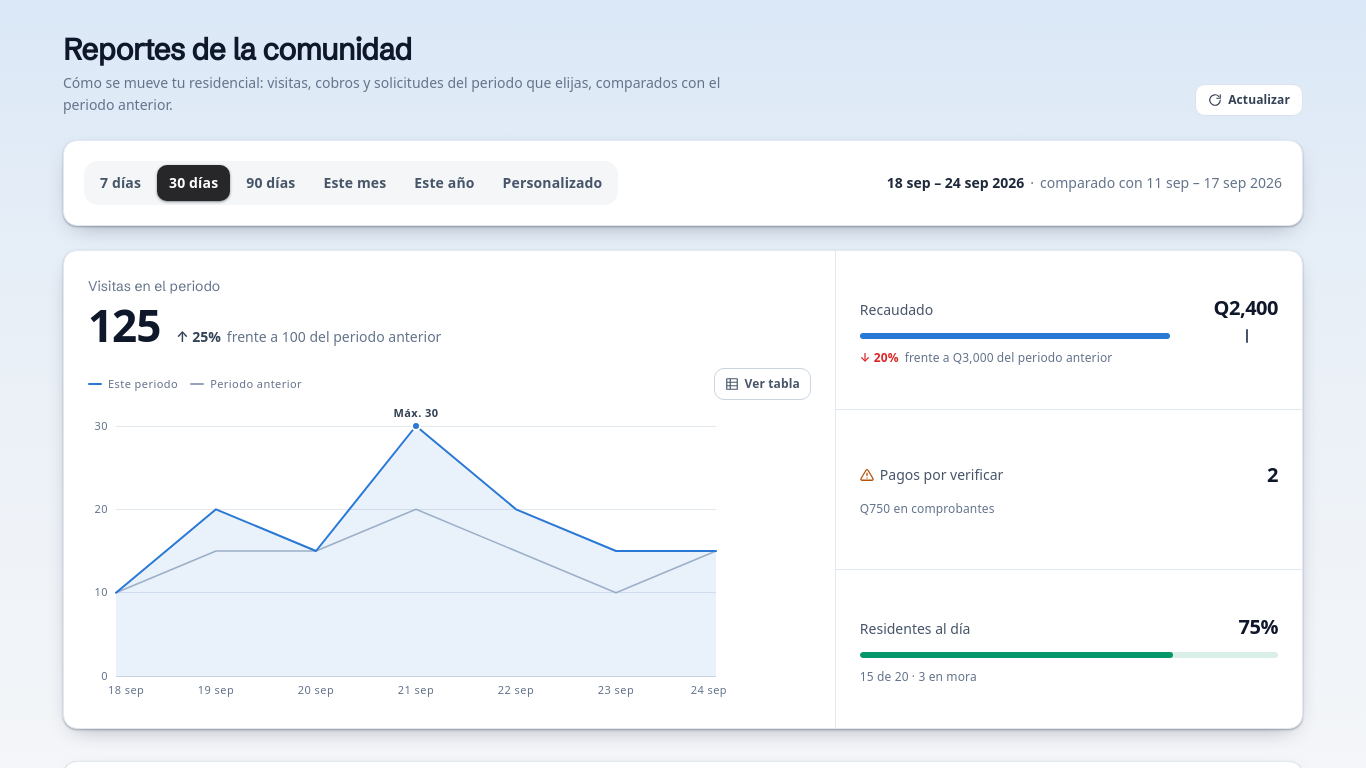
Test: EstadisticasPage › cada gráfico ofrece su vista de tabla
Click the button "Ver tabla" at (762, 384), box [714, 368, 811, 400]
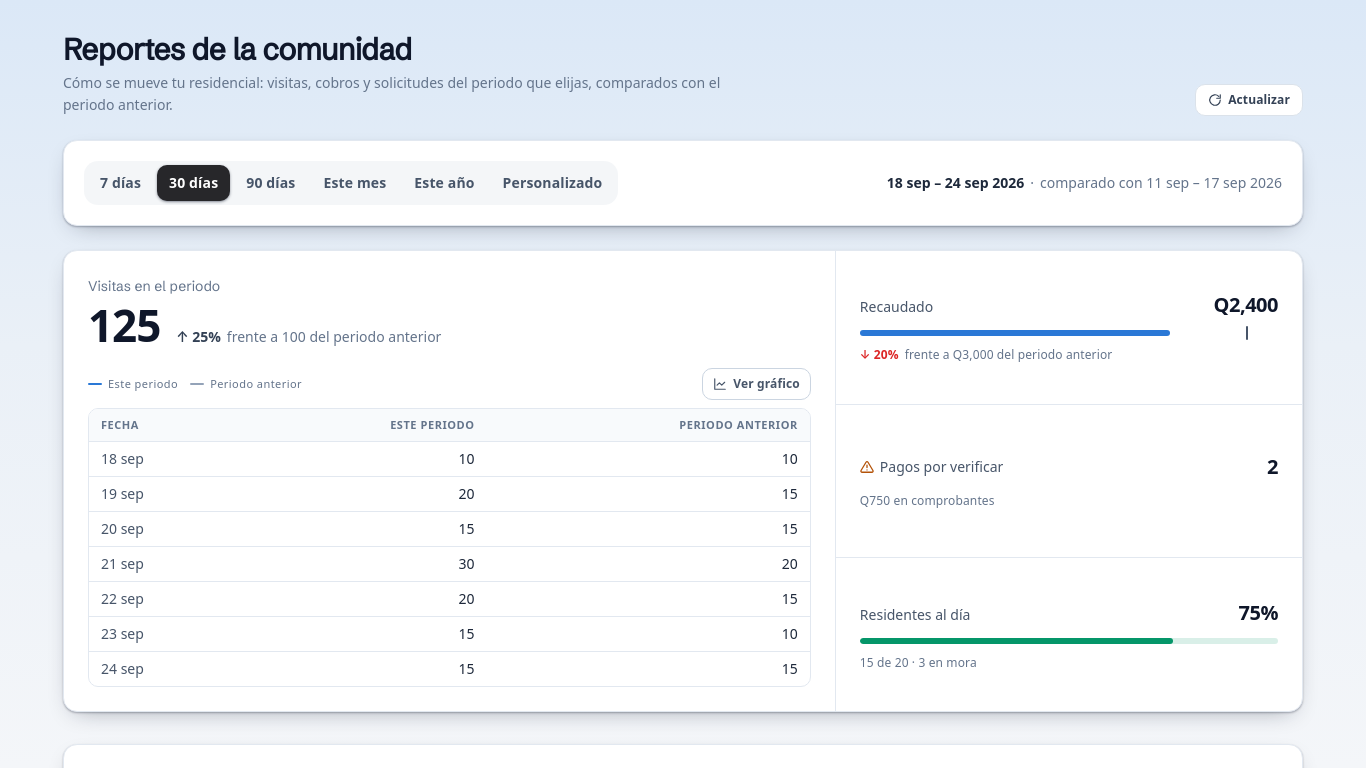
Expected: the number of rows is 8
